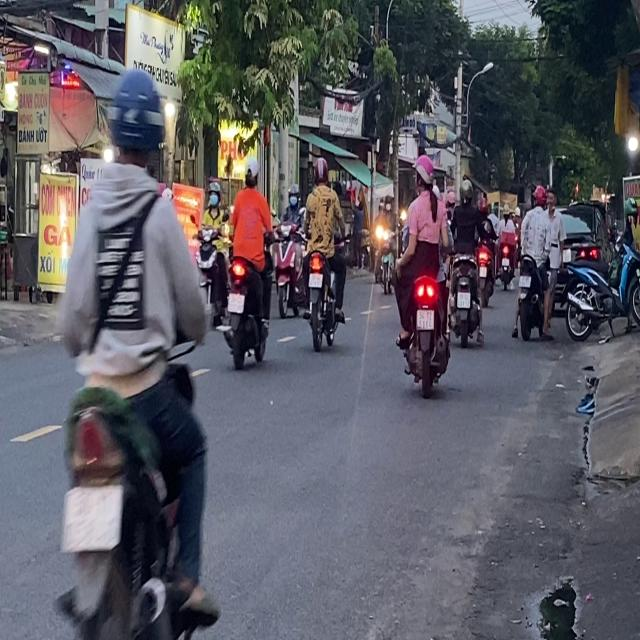helmet: (103, 65, 168, 173), (413, 154, 435, 192), (242, 155, 259, 188), (312, 156, 329, 186), (206, 180, 221, 212), (459, 177, 473, 202), (532, 184, 546, 207), (287, 182, 299, 205)
licenseplate: (52, 62, 218, 633), (394, 149, 451, 395), (224, 154, 274, 368), (301, 155, 347, 349), (512, 182, 554, 341), (447, 176, 484, 347), (192, 182, 230, 328), (273, 181, 306, 319)
nohelmet: (63, 486, 122, 550), (417, 309, 434, 329), (227, 293, 244, 312), (308, 273, 322, 287), (457, 292, 470, 307), (519, 275, 531, 287)
